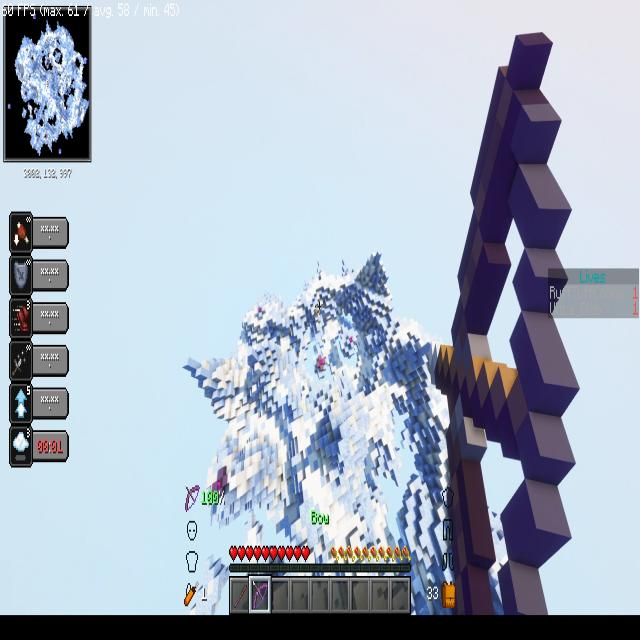Player: (312, 305, 320, 320)
